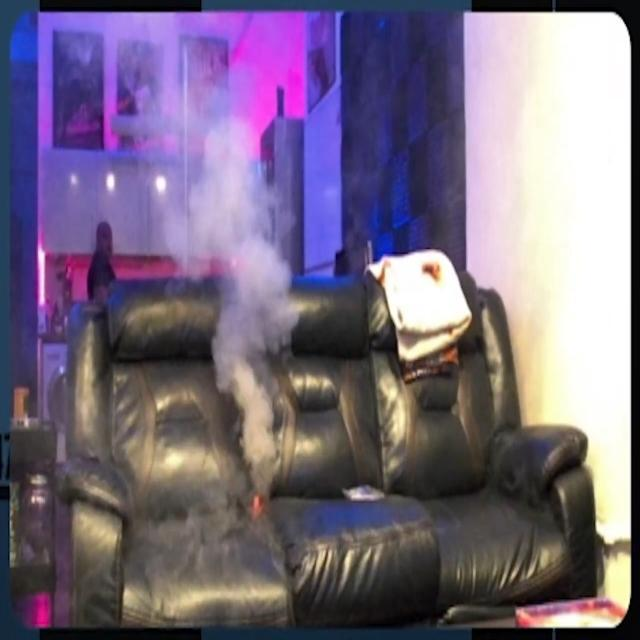Smoke: (192, 132, 322, 486)
